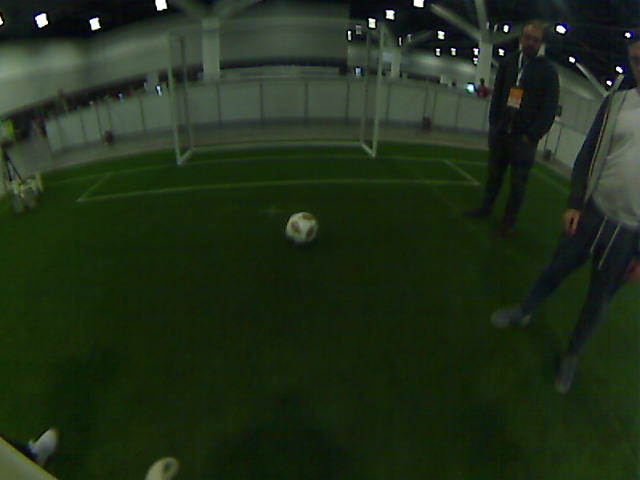ball: (282, 207, 322, 247)
goalpost: (161, 101, 195, 165), (364, 96, 380, 158)
robot: (19, 165, 39, 206)
